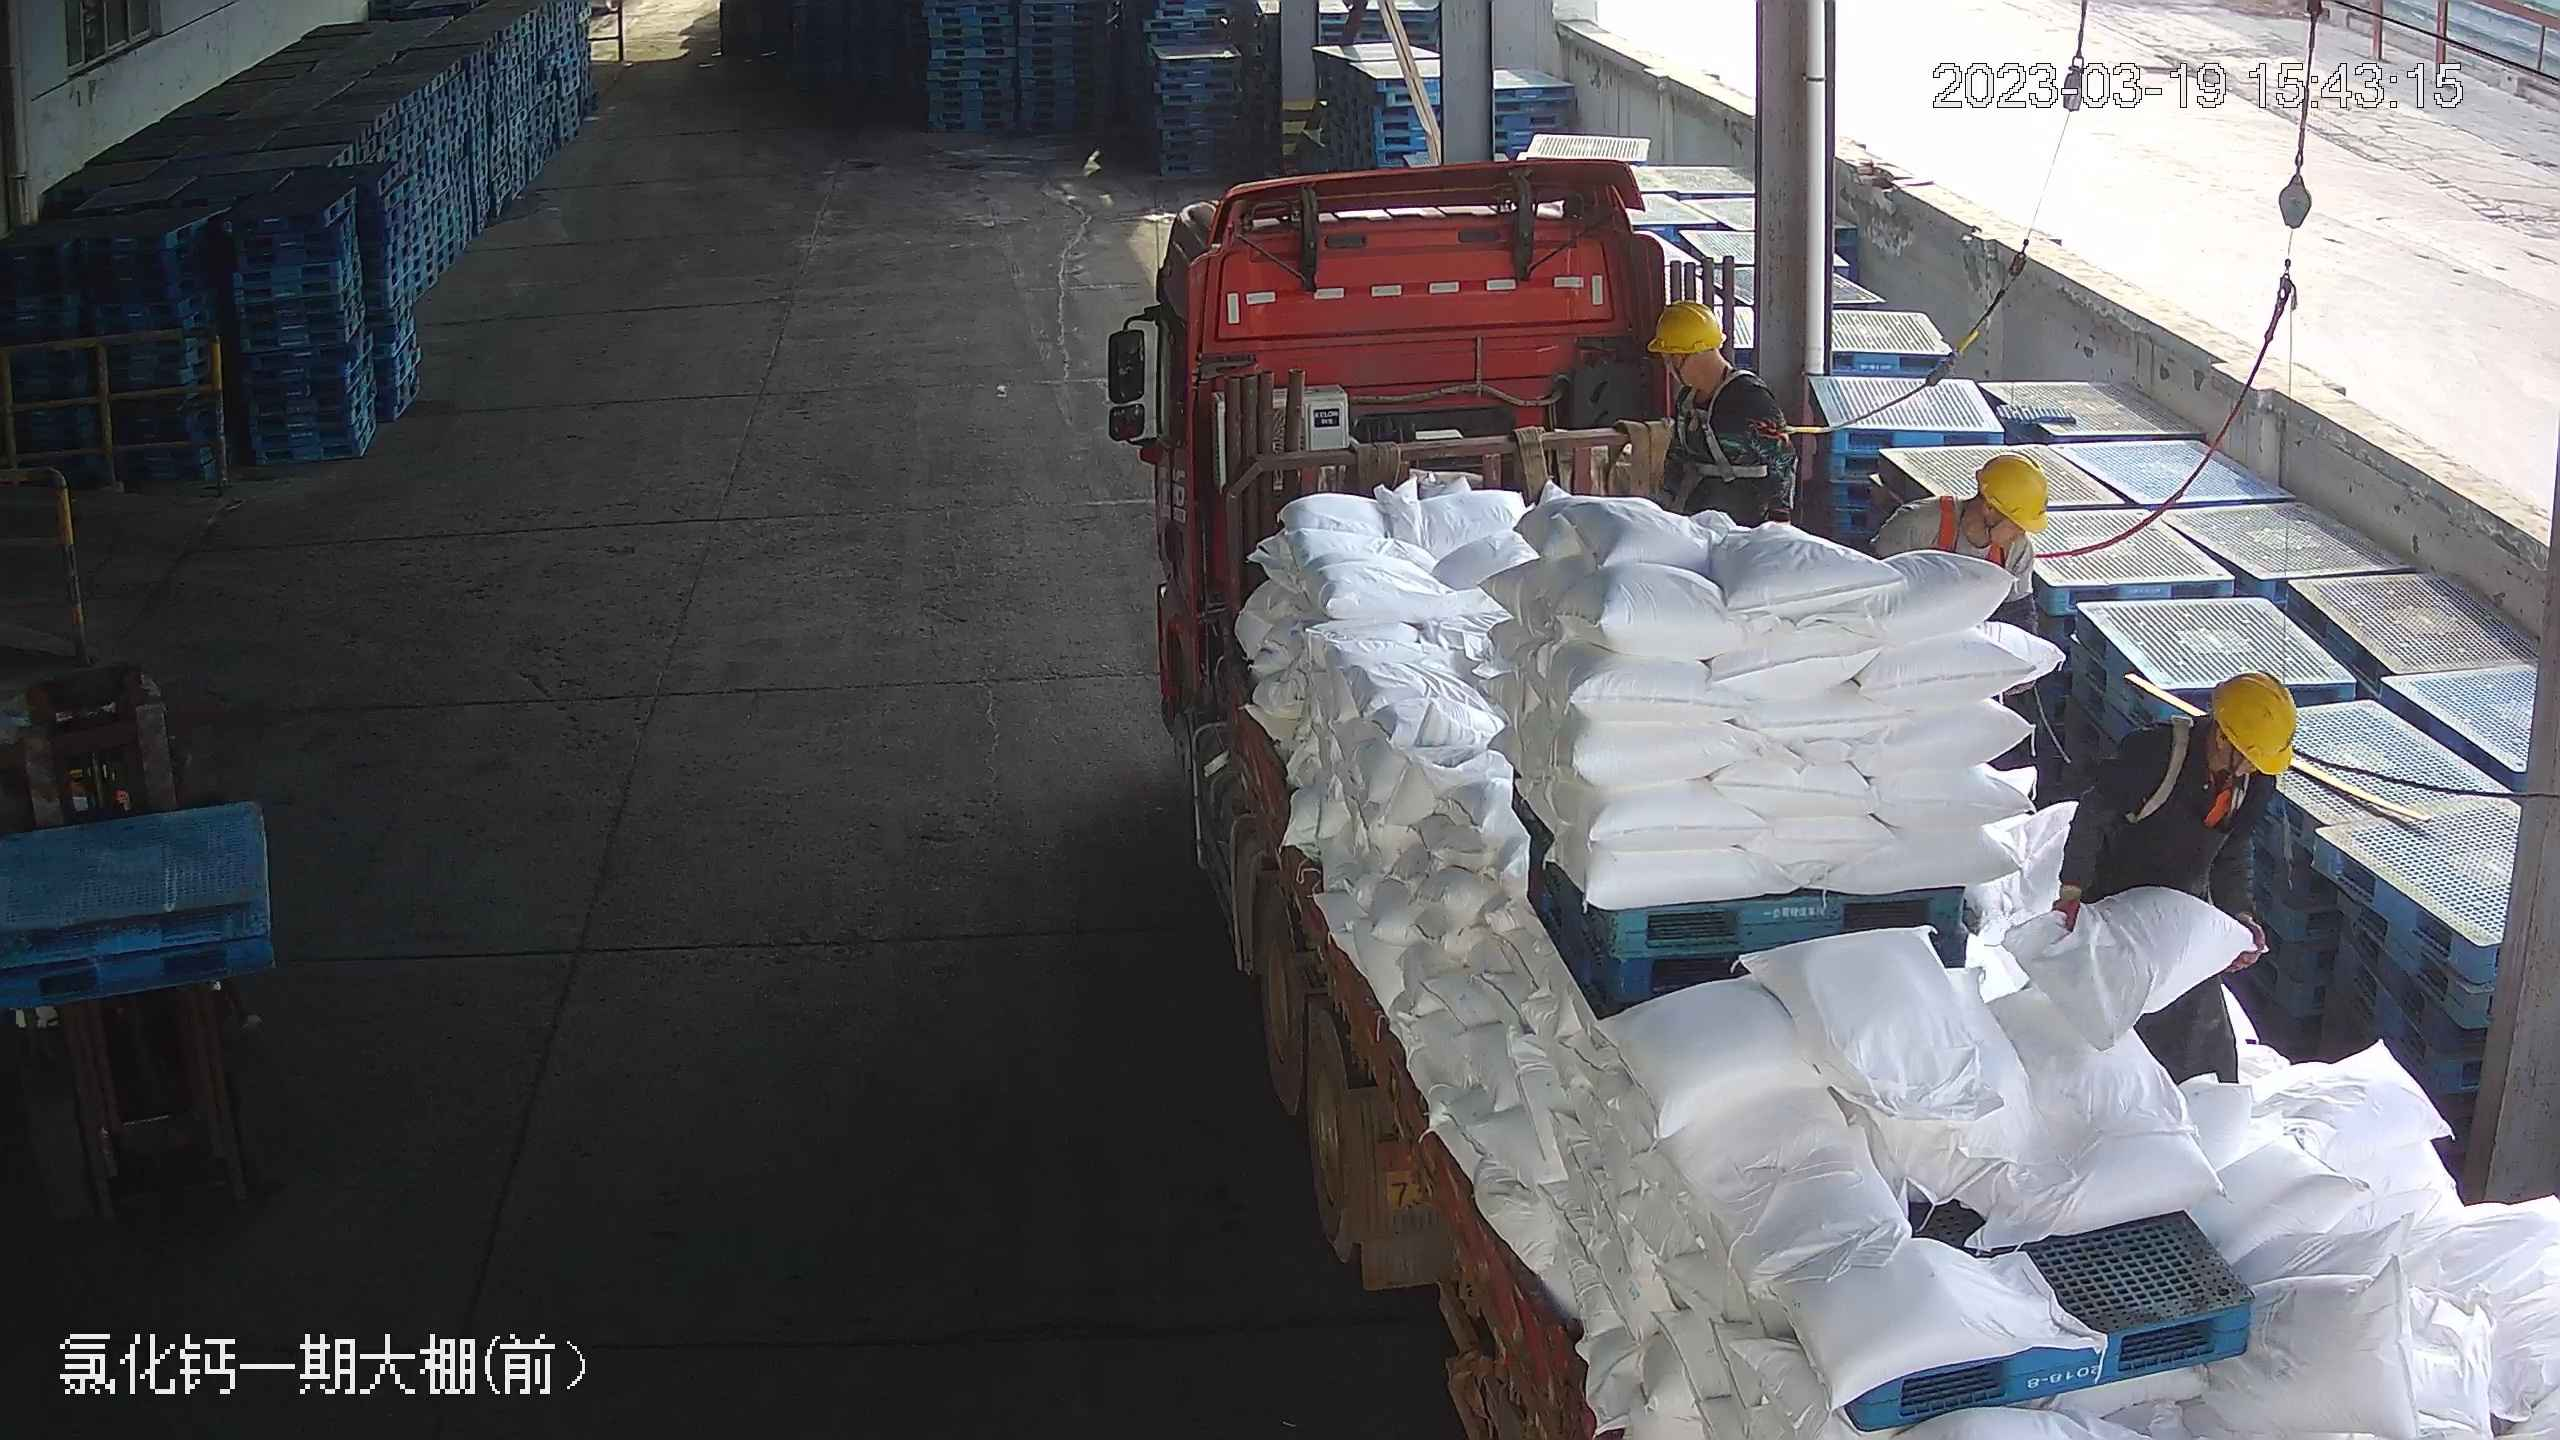belt: (2124, 706, 2247, 832), (1664, 368, 1799, 478), (1935, 483, 2008, 571)
head: (2124, 668, 2299, 821), (1643, 298, 1777, 428), (1914, 451, 2049, 557)
helmet: (2209, 667, 2298, 777), (1970, 449, 2051, 534), (1648, 298, 1728, 356)
people: (2045, 669, 2297, 1094), (1645, 293, 1795, 538)
truck: (1102, 164, 2536, 1440)
